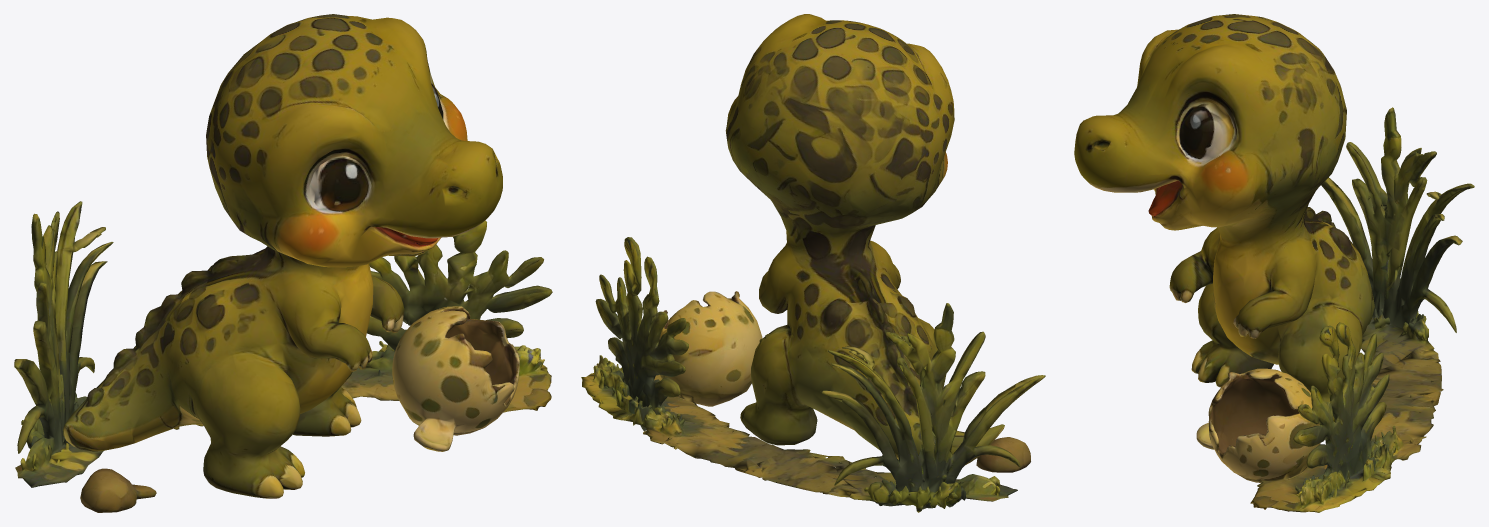
File: kodomo.glb
3 views of the same model, side by side, from view 1: azimuth 30°, elevation 25°; view 2: azimuth 150°, elevation 25°; view 3: azimuth 270°, elevation 25° (orthographic). The views are drawn at different scales.
Visible parts, largest first — view 1: tripo_node_fb8bc768-9b4b-4fbf-82bf-c5a97358f7c4; view 2: tripo_node_fb8bc768-9b4b-4fbf-82bf-c5a97358f7c4; view 3: tripo_node_fb8bc768-9b4b-4fbf-82bf-c5a97358f7c4.
Boxes of the visible parts, left/top/right/bottom form: tripo_node_fb8bc768-9b4b-4fbf-82bf-c5a97358f7c4: left=14, top=14, right=552, bottom=512; tripo_node_fb8bc768-9b4b-4fbf-82bf-c5a97358f7c4: left=581, top=14, right=1045, bottom=512; tripo_node_fb8bc768-9b4b-4fbf-82bf-c5a97358f7c4: left=1074, top=14, right=1474, bottom=512.
Bounding box in the file's own units: 0.9996 × 0.8052 × 0.737.
1 material, 1 textured.
